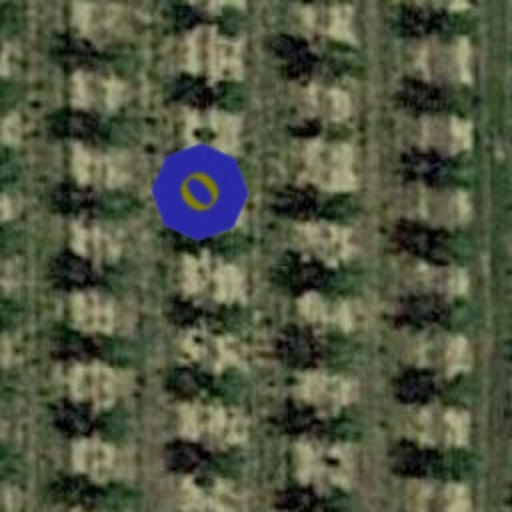octagon: (130, 122, 270, 262)
